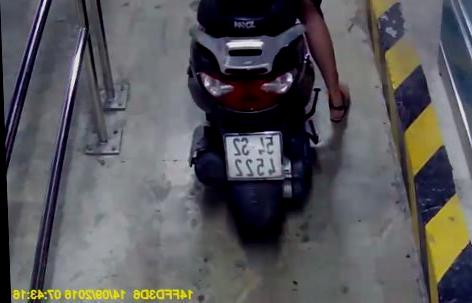License_Plate: (223, 127, 289, 185)
